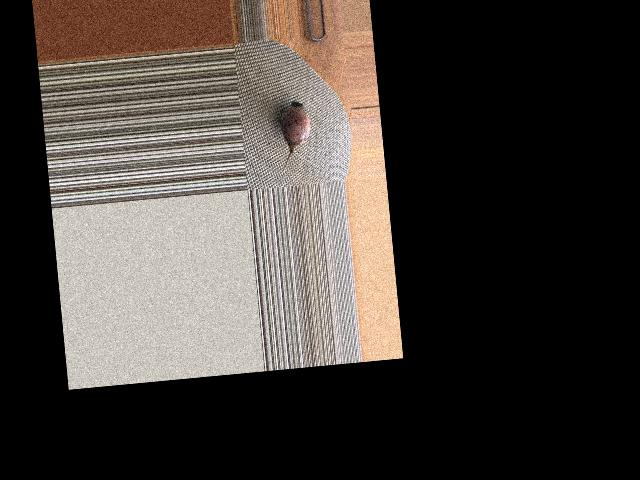beet: (272, 99, 314, 174)
